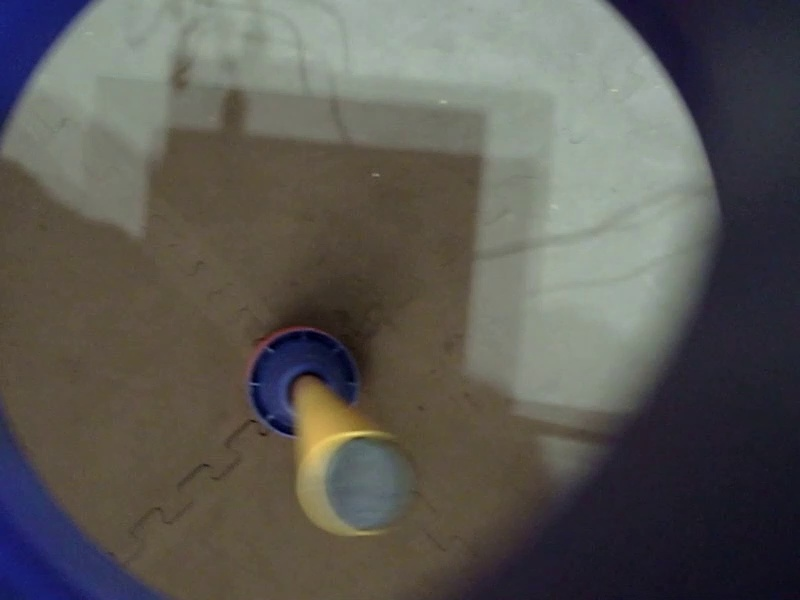tip: (185, 73, 298, 186)
